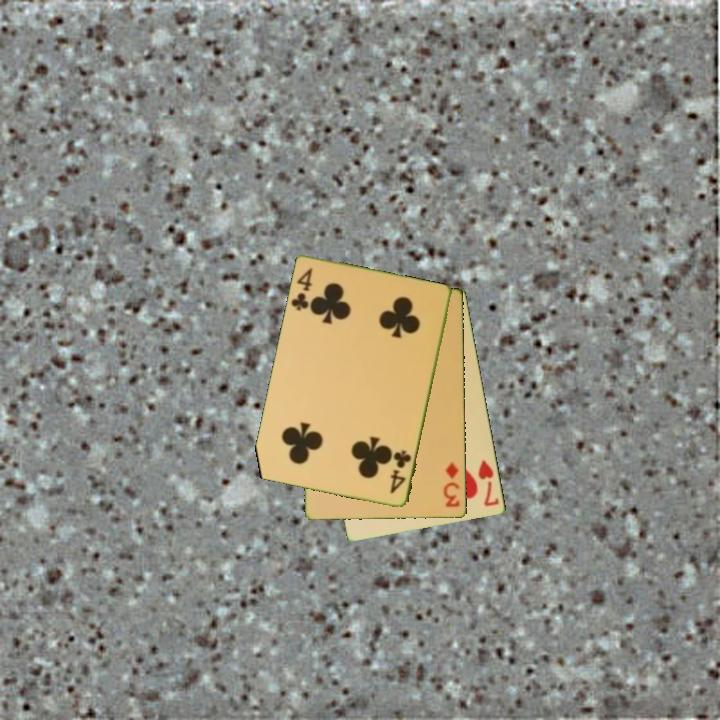3d: (440, 459, 463, 510)
4c: (288, 265, 316, 314), (387, 447, 414, 497)
7h: (475, 457, 502, 509)
